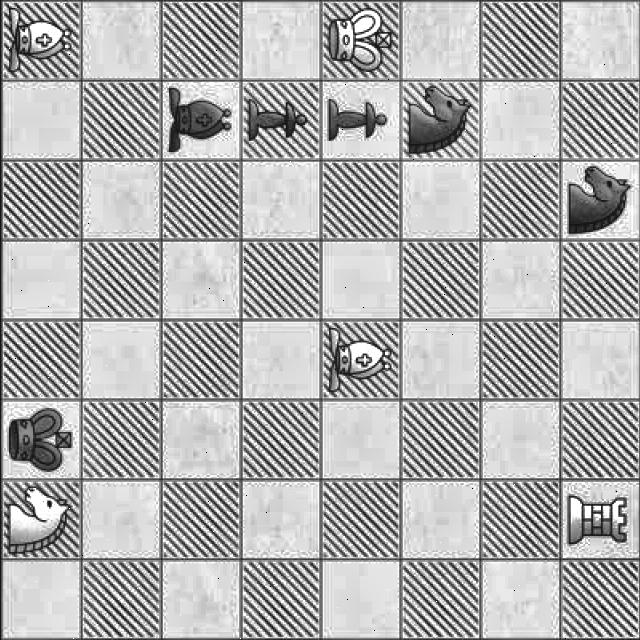Black Knight: (404, 82, 480, 158), (562, 166, 636, 236)
black bishop: (163, 86, 240, 154)
black king: (0, 404, 80, 475)
black pawn: (322, 83, 398, 153), (245, 88, 315, 150)
white bishop: (0, 6, 77, 75), (324, 324, 393, 396)
white king: (326, 5, 398, 73)
white rook: (562, 486, 632, 556)
whiteknight: (3, 480, 76, 558)
